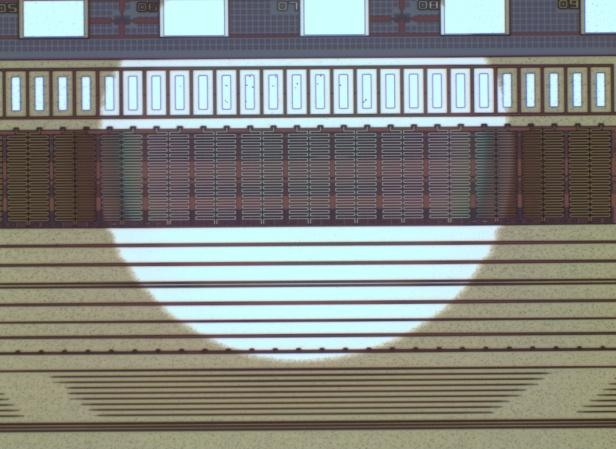BLOCK ETCH: (1, 1, 616, 449)
